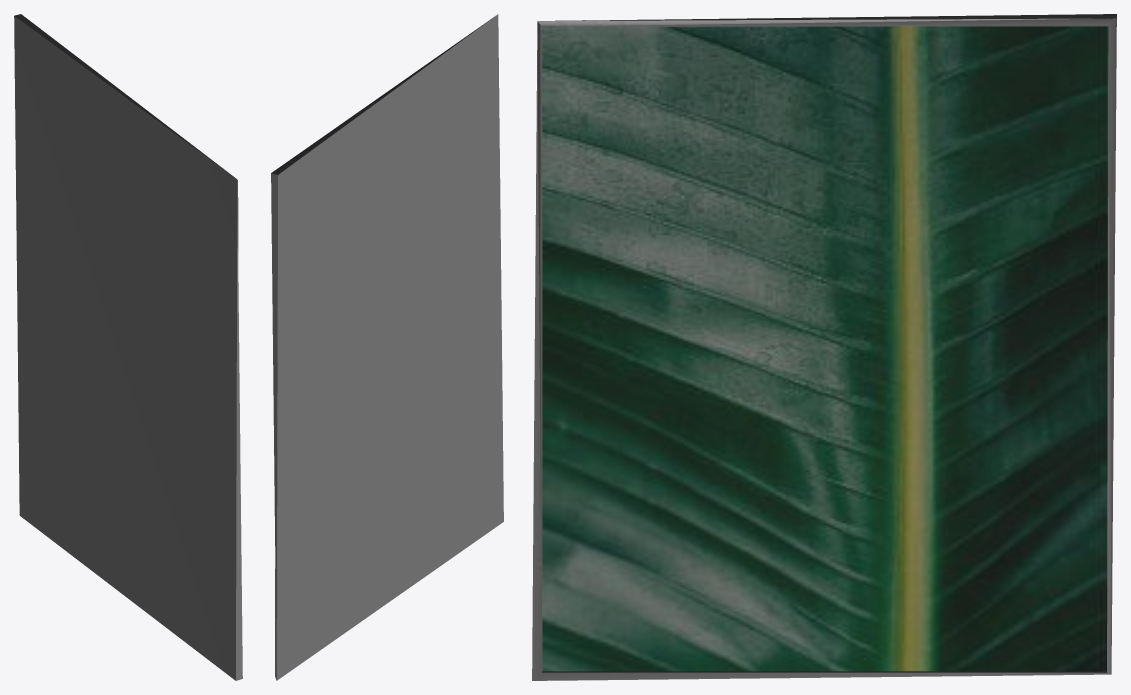
The model's file is WallPainting0021.obj.
The picture shows the model from 3 angles, left to right: view 1: azimuth 30°, elevation 25°; view 2: azimuth 150°, elevation 25°; view 3: azimuth 270°, elevation 25°; orthographic projection. The views are drawn at different scales.
Size of the model in its own units: 0.014 by 0.966 by 0.772.
1 material, 1 textured.
